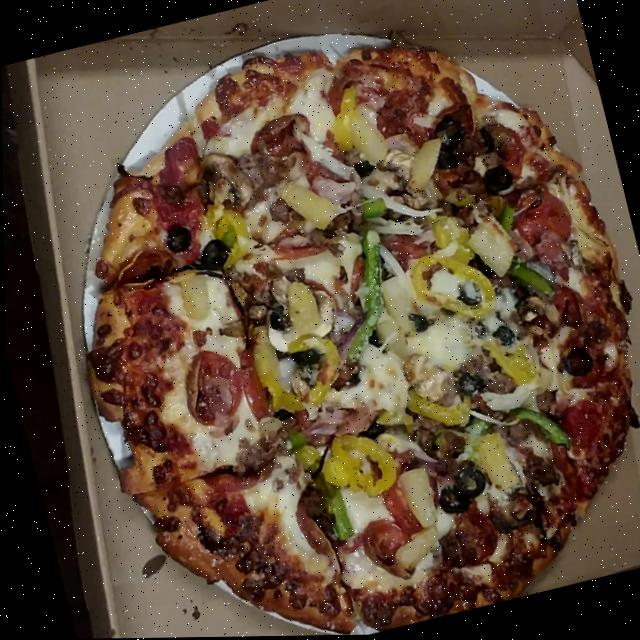black_olives: (192, 234, 234, 276), (448, 464, 488, 502), (429, 116, 468, 152), (557, 347, 595, 382), (433, 487, 470, 520), (482, 164, 516, 196), (161, 225, 195, 257), (285, 346, 322, 374), (474, 126, 496, 164), (428, 149, 460, 172), (266, 310, 284, 333)
mushrooms: (256, 276, 346, 357), (190, 144, 256, 217), (372, 144, 420, 195), (286, 370, 314, 402)
pepperoni: (170, 343, 249, 432), (354, 514, 418, 588), (509, 184, 576, 254), (373, 472, 422, 541), (247, 110, 312, 161), (231, 347, 272, 421), (199, 457, 263, 500)
pizza: (19, 0, 640, 640)
